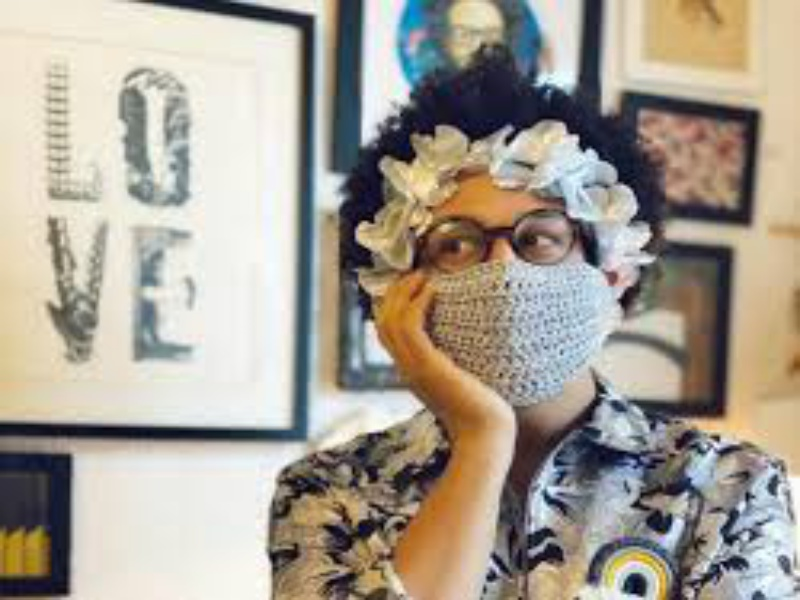ManaoArotava: (366, 101, 632, 433)
